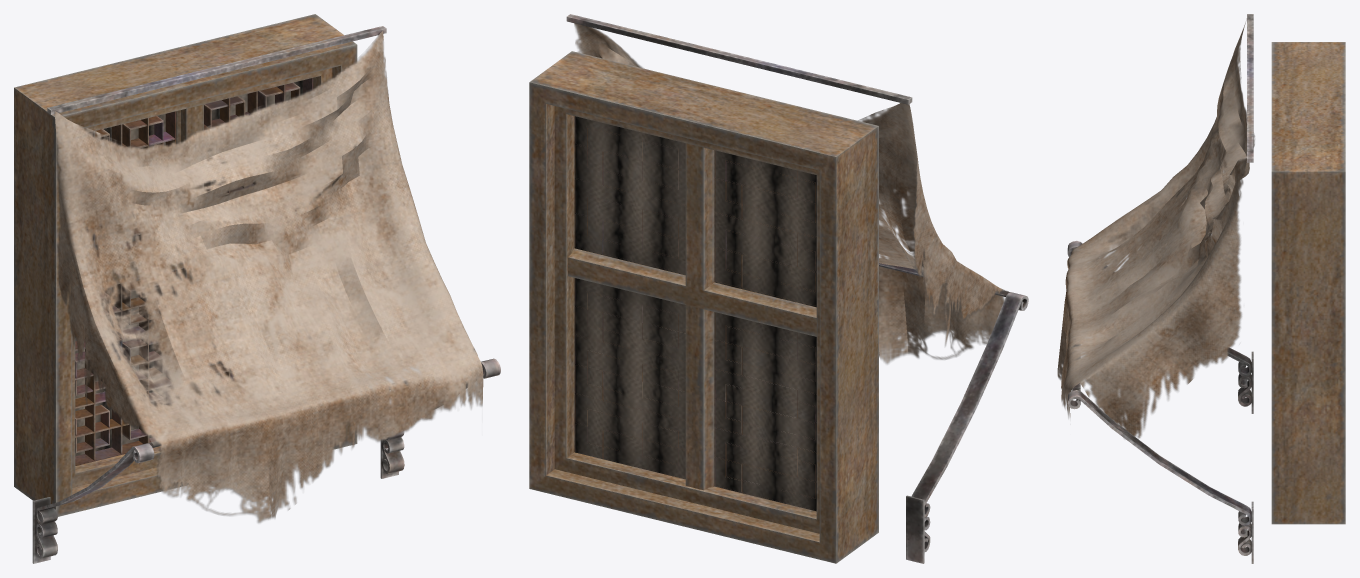
Rendered from xi_dsp_window_shade_open.gltf.
3 views of the same model, side by side, from view 1: azimuth 30°, elevation 25°; view 2: azimuth 150°, elevation 25°; view 3: azimuth 270°, elevation 25° (orthographic). The views are drawn at different scales.
Parts seen in each view (by area): view 1: xi_dsp_window_shade_open; view 2: xi_dsp_window_shade_open; view 3: xi_dsp_window_shade_open.
Boxes of the visible parts, bbox=[...] form: xi_dsp_window_shade_open: bbox=[14, 14, 500, 563]; xi_dsp_window_shade_open: bbox=[529, 14, 1028, 563]; xi_dsp_window_shade_open: bbox=[1057, 14, 1345, 563].
Size of the model in its own units: 1.56 by 1.85 by 1.21.
Materials: 1 (1 with a texture image).
